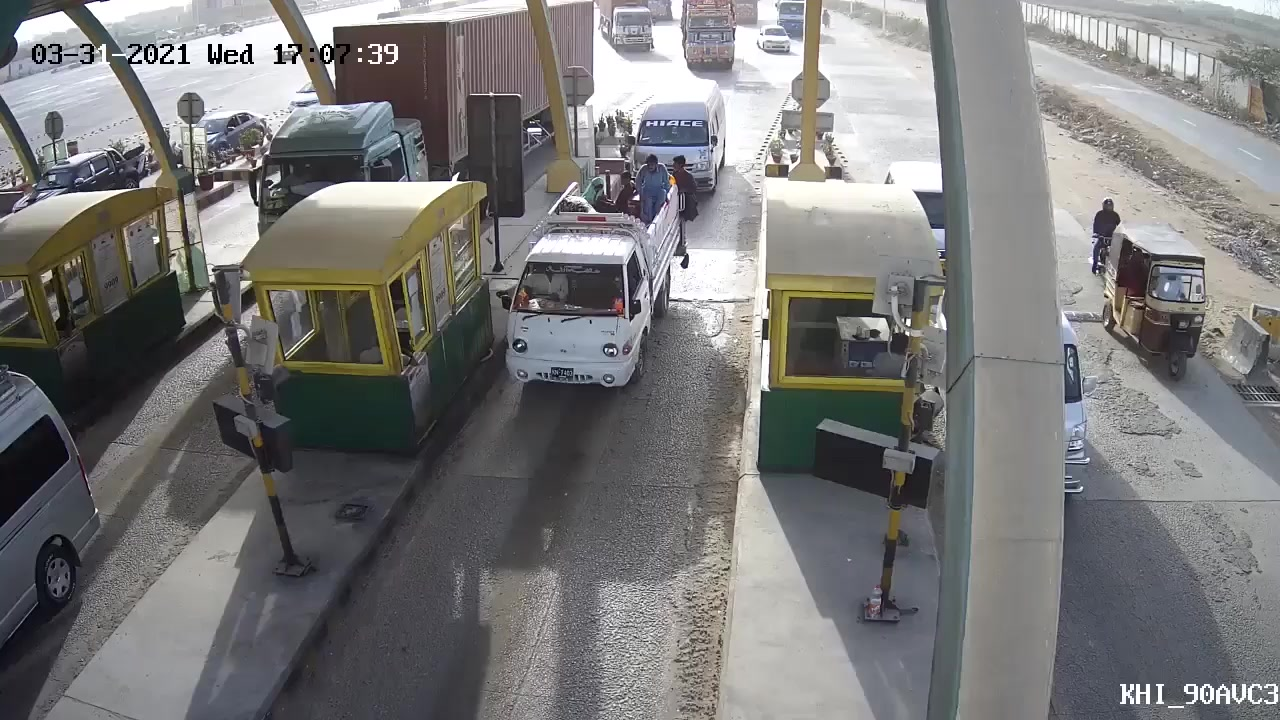F3: (496, 162, 681, 392)
